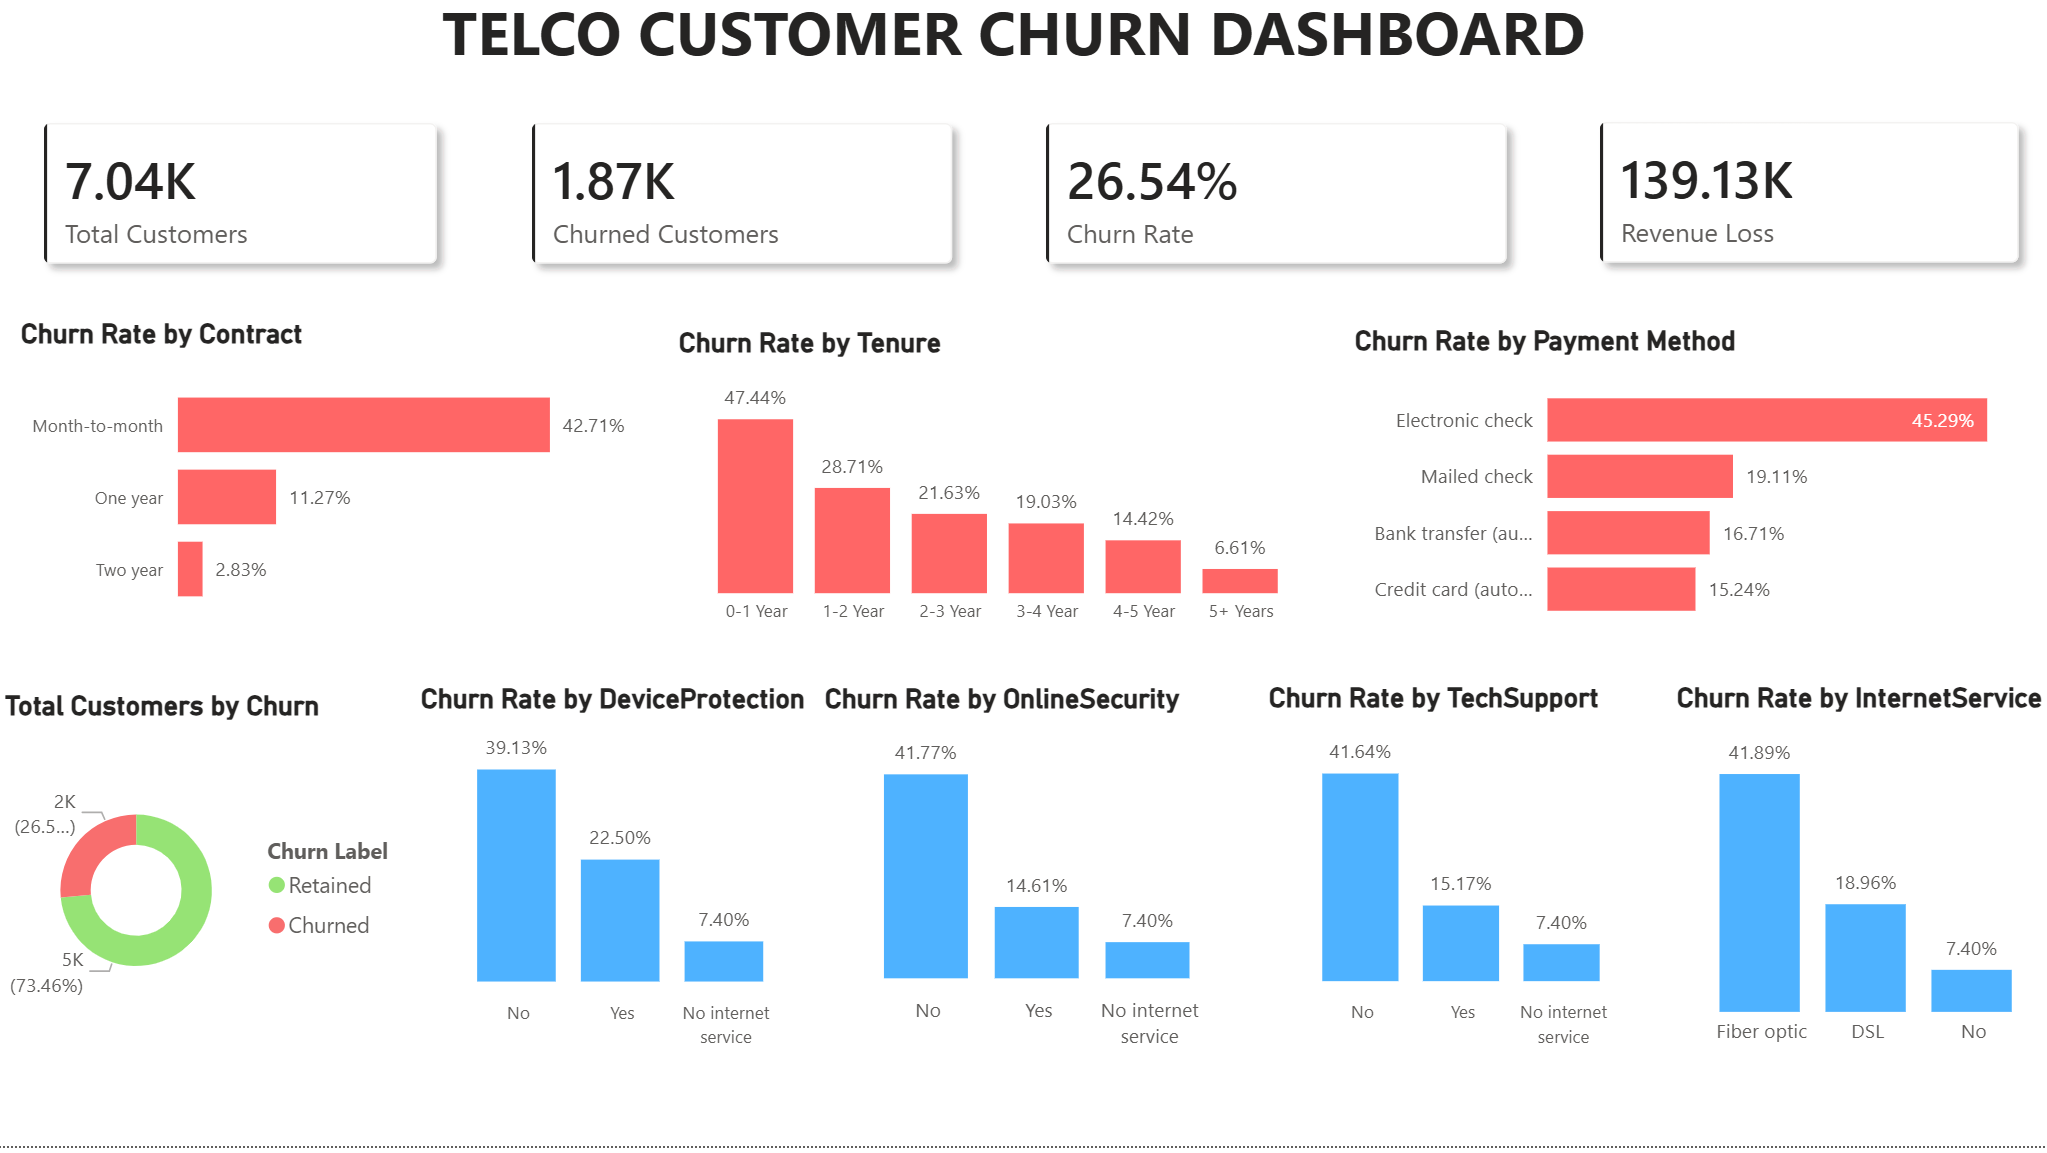

What the dashboard file says about the page in this screenshot:
{"tool":"powerbi","page":{"name":"Page 1","canvas":[1280,720],"ordinal":0},"visuals":[{"type":"cardVisual","fields":{"Data":["WA_Fn-UseC_-Telco-Customer-Churn (1).Total Cusotmers"]},"box":[0,58.3,301.7,145],"z":0},{"type":"cardVisual","fields":{"Data":["WA_Fn-UseC_-Telco-Customer-Churn (1).Churned Customers"]},"box":[301.7,58.3,318.3,145],"z":1000},{"type":"cardVisual","fields":{"Data":["WA_Fn-UseC_-Telco-Customer-Churn (1).Churn Rate"]},"box":[620,58.3,343.3,145],"z":2000},{"type":"cardVisual","fields":{"Data":["WA_Fn-UseC_-Telco-Customer-Churn (1).Revenue Loss"]},"box":[962.5,57.5,317.5,145],"z":3000},{"type":"barChart","fields":{"Category":["WA_Fn-UseC_-Telco-Customer-Churn (1).Contract"],"Y":["WA_Fn-UseC_-Telco-Customer-Churn (1).Churn Rate"]},"box":[10,207.5,390,197.5],"z":4000},{"type":"columnChart","fields":{"Category":["WA_Fn-UseC_-Telco-Customer-Churn (1).InternetService"],"Y":["WA_Fn-UseC_-Telco-Customer-Churn (1).Churn Rate"]},"box":[1034,432.7,246,234.7],"z":5000},{"type":"donutChart","title":"Total Customers by Churn","fields":{"Category":["WA_Fn-UseC_-Telco-Customer-Churn (1).Churn Label"],"Y":["WA_Fn-UseC_-Telco-Customer-Churn (1).Total Cusotmers"]},"box":[0,437.1,257.1,230],"z":6000},{"type":"barChart","title":"Churn Rate by Payment Method","fields":{"Y":["WA_Fn-UseC_-Telco-Customer-Churn (1).Churn Rate"],"Category":["WA_Fn-UseC_-Telco-Customer-Churn (1).PaymentMethod"]},"box":[835,211.3,445,197.5],"z":7000},{"type":"clusteredColumnChart","fields":{"Category":["WA_Fn-UseC_-Telco-Customer-Churn (1).TechSupport"],"Y":["WA_Fn-UseC_-Telco-Customer-Churn (1).Churn Rate"]},"box":[782,432.7,242,234.7],"z":8000},{"type":"clusteredColumnChart","fields":{"Y":["WA_Fn-UseC_-Telco-Customer-Churn (1).Churn Rate"],"Category":["WA_Fn-UseC_-Telco-Customer-Churn (1).OnlineSecurity"]},"box":[507.1,432.9,265.7,234.3],"z":9000},{"type":"clusteredColumnChart","fields":{"Y":["WA_Fn-UseC_-Telco-Customer-Churn (1).Churn Rate"],"Category":["WA_Fn-UseC_-Telco-Customer-Churn (1).DeviceProtection"]},"box":[257.1,432.9,250,234.3],"z":10000},{"type":"columnChart","title":"Churn Rate by Tenure","fields":{"Category":["WA_Fn-UseC_-Telco-Customer-Churn (1).Tenure Group"],"Y":["WA_Fn-UseC_-Telco-Customer-Churn (1).Churn Rate"]},"box":[417.1,212.7,405.7,194.3],"z":11000},{"type":"textbox","box":[270,0,950,63.3],"z":12000}]}

Visuals, with their boxes in screenshot pixels (x1, y1, x2, y2), scaled from the page's 1280x720 canvas onto the 2047x1153 screenshot:
cardVisual - WA_Fn-UseC_-Telco-Customer-Churn (1).Total Cusotmers: BBox(0, 93, 482, 326)
cardVisual - WA_Fn-UseC_-Telco-Customer-Churn (1).Churned Customers: BBox(482, 93, 992, 326)
cardVisual - WA_Fn-UseC_-Telco-Customer-Churn (1).Churn Rate: BBox(992, 93, 1541, 326)
cardVisual - WA_Fn-UseC_-Telco-Customer-Churn (1).Revenue Loss: BBox(1539, 92, 2046, 324)
barChart - WA_Fn-UseC_-Telco-Customer-Churn (1).Contract x WA_Fn-UseC_-Telco-Customer-Churn (1).Churn Rate: BBox(16, 332, 640, 649)
columnChart - WA_Fn-UseC_-Telco-Customer-Churn (1).InternetService x WA_Fn-UseC_-Telco-Customer-Churn (1).Churn Rate: BBox(1654, 693, 2046, 1069)
"Total Customers by Churn" donutChart: BBox(0, 700, 411, 1068)
"Churn Rate by Payment Method" barChart: BBox(1335, 338, 2046, 655)
clusteredColumnChart - WA_Fn-UseC_-Telco-Customer-Churn (1).TechSupport x WA_Fn-UseC_-Telco-Customer-Churn (1).Churn Rate: BBox(1251, 693, 1638, 1069)
clusteredColumnChart - WA_Fn-UseC_-Telco-Customer-Churn (1).Churn Rate x WA_Fn-UseC_-Telco-Customer-Churn (1).OnlineSecurity: BBox(811, 693, 1236, 1068)
clusteredColumnChart - WA_Fn-UseC_-Telco-Customer-Churn (1).Churn Rate x WA_Fn-UseC_-Telco-Customer-Churn (1).DeviceProtection: BBox(411, 693, 811, 1068)
"Churn Rate by Tenure" columnChart: BBox(667, 341, 1316, 652)
textbox: BBox(432, 0, 1951, 101)
